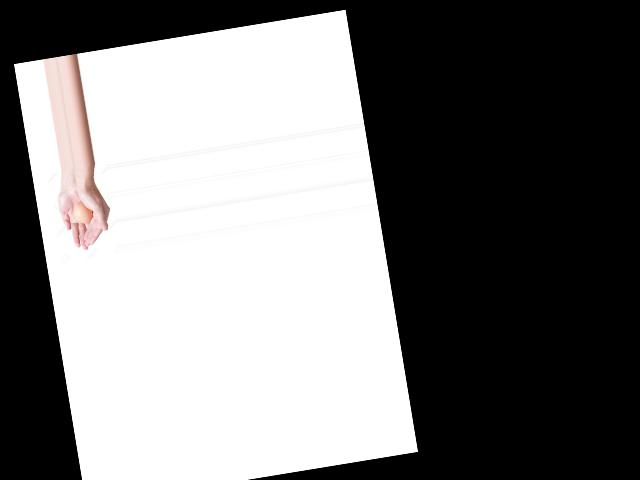egg: (73, 201, 94, 224)
